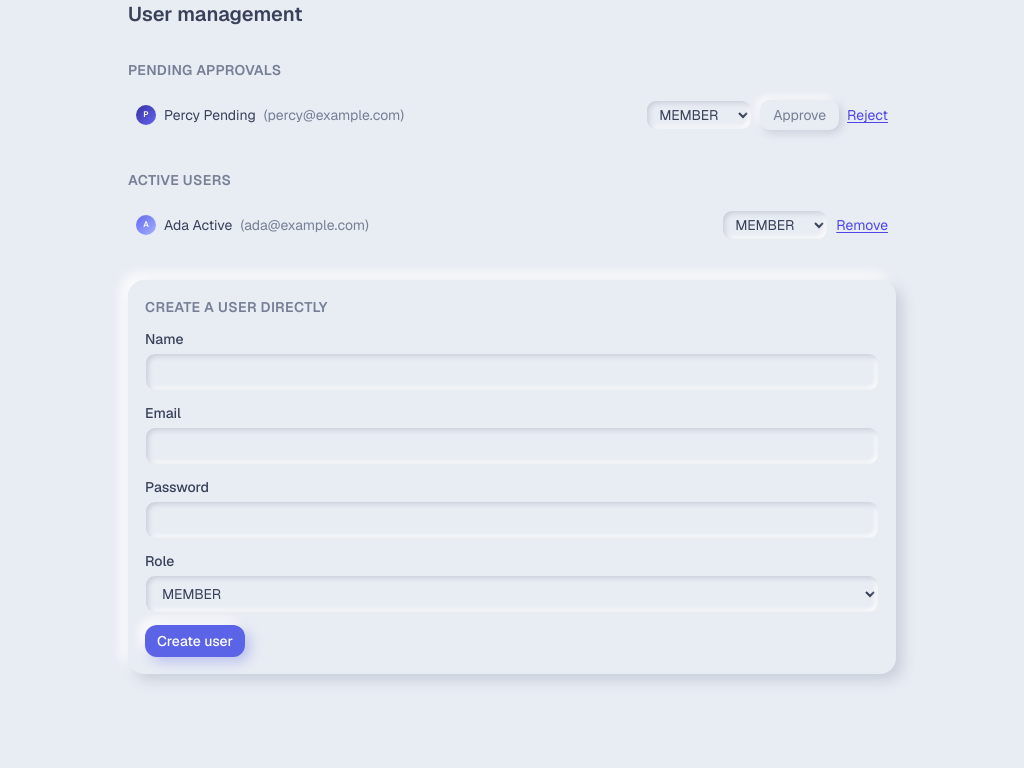
Test: AdminUsersPage › does nothing when the approve confirmation is dismissed
The image size is (1024, 768).
Expected: the text "Percy Pending" is shown, [164, 106, 256, 124]
What coordinates should you click on to do the following:
click the button "Approve"
I would click on:
 (800, 115)
Its box is [760, 100, 839, 130].
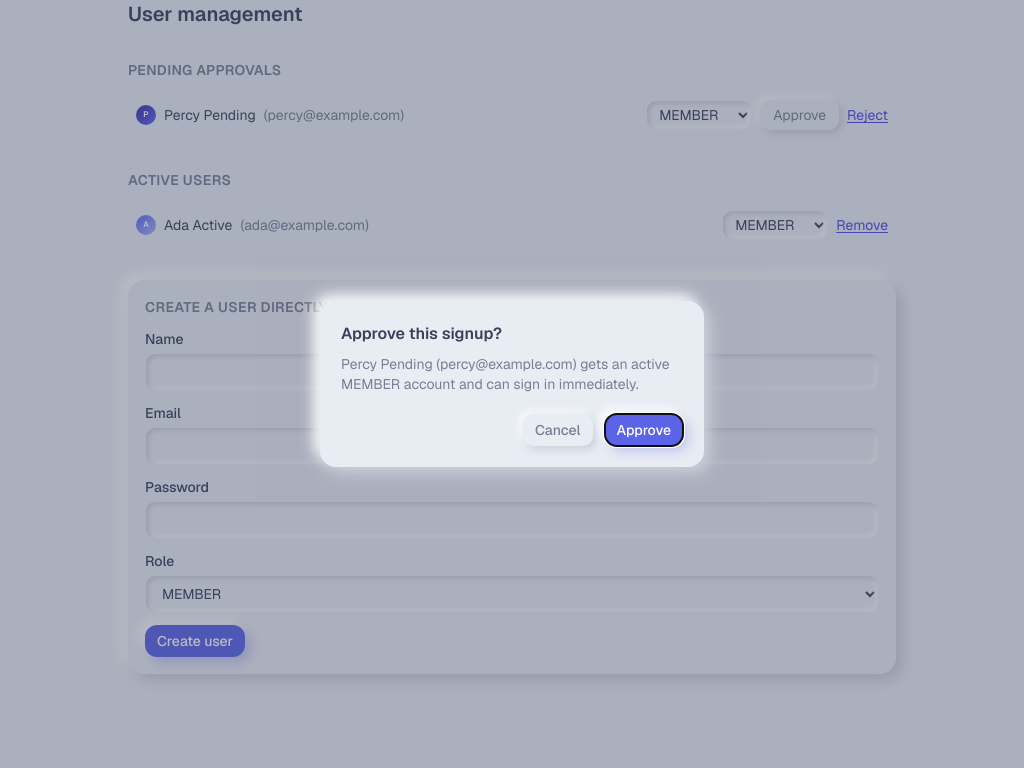
What coordinates should you click on to do the following:
click the button "Cancel"
I would click on:
 (558, 430)
Its box is [523, 414, 593, 446].
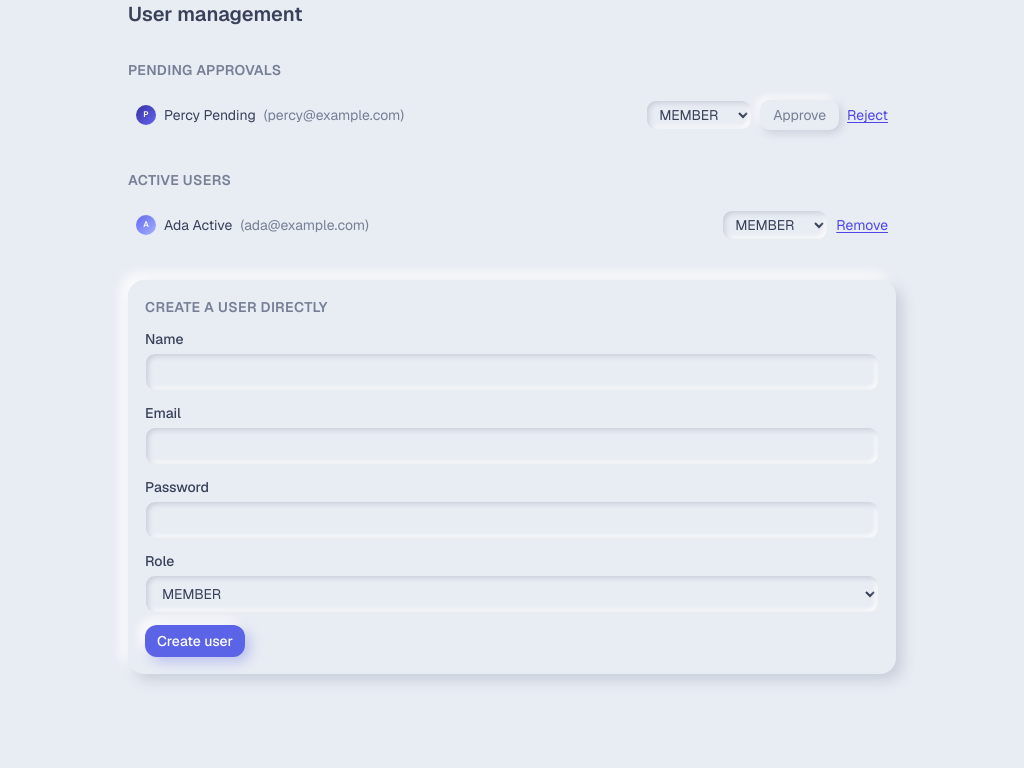
Expected: the text "Percy Pending" is shown, [164, 106, 256, 124]
Expected: the dialog is gone
